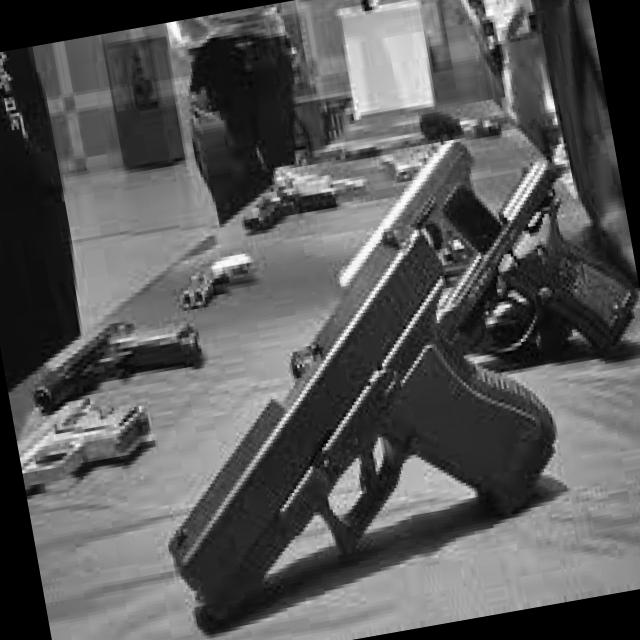gun: (123, 209, 581, 632), (429, 148, 640, 379), (20, 302, 208, 416), (14, 390, 158, 500), (236, 168, 343, 242), (172, 245, 261, 314)
